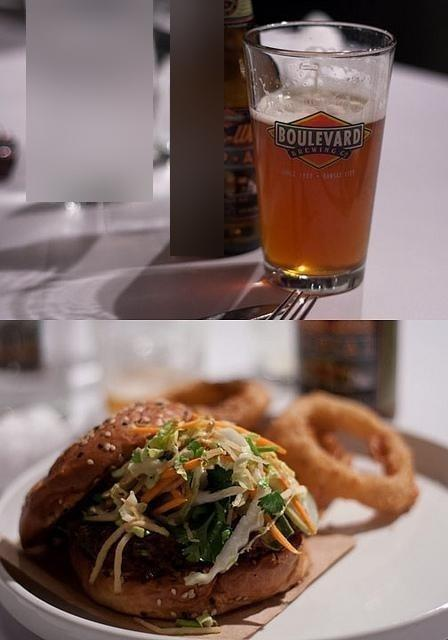glass-normal: (246, 17, 403, 294)
